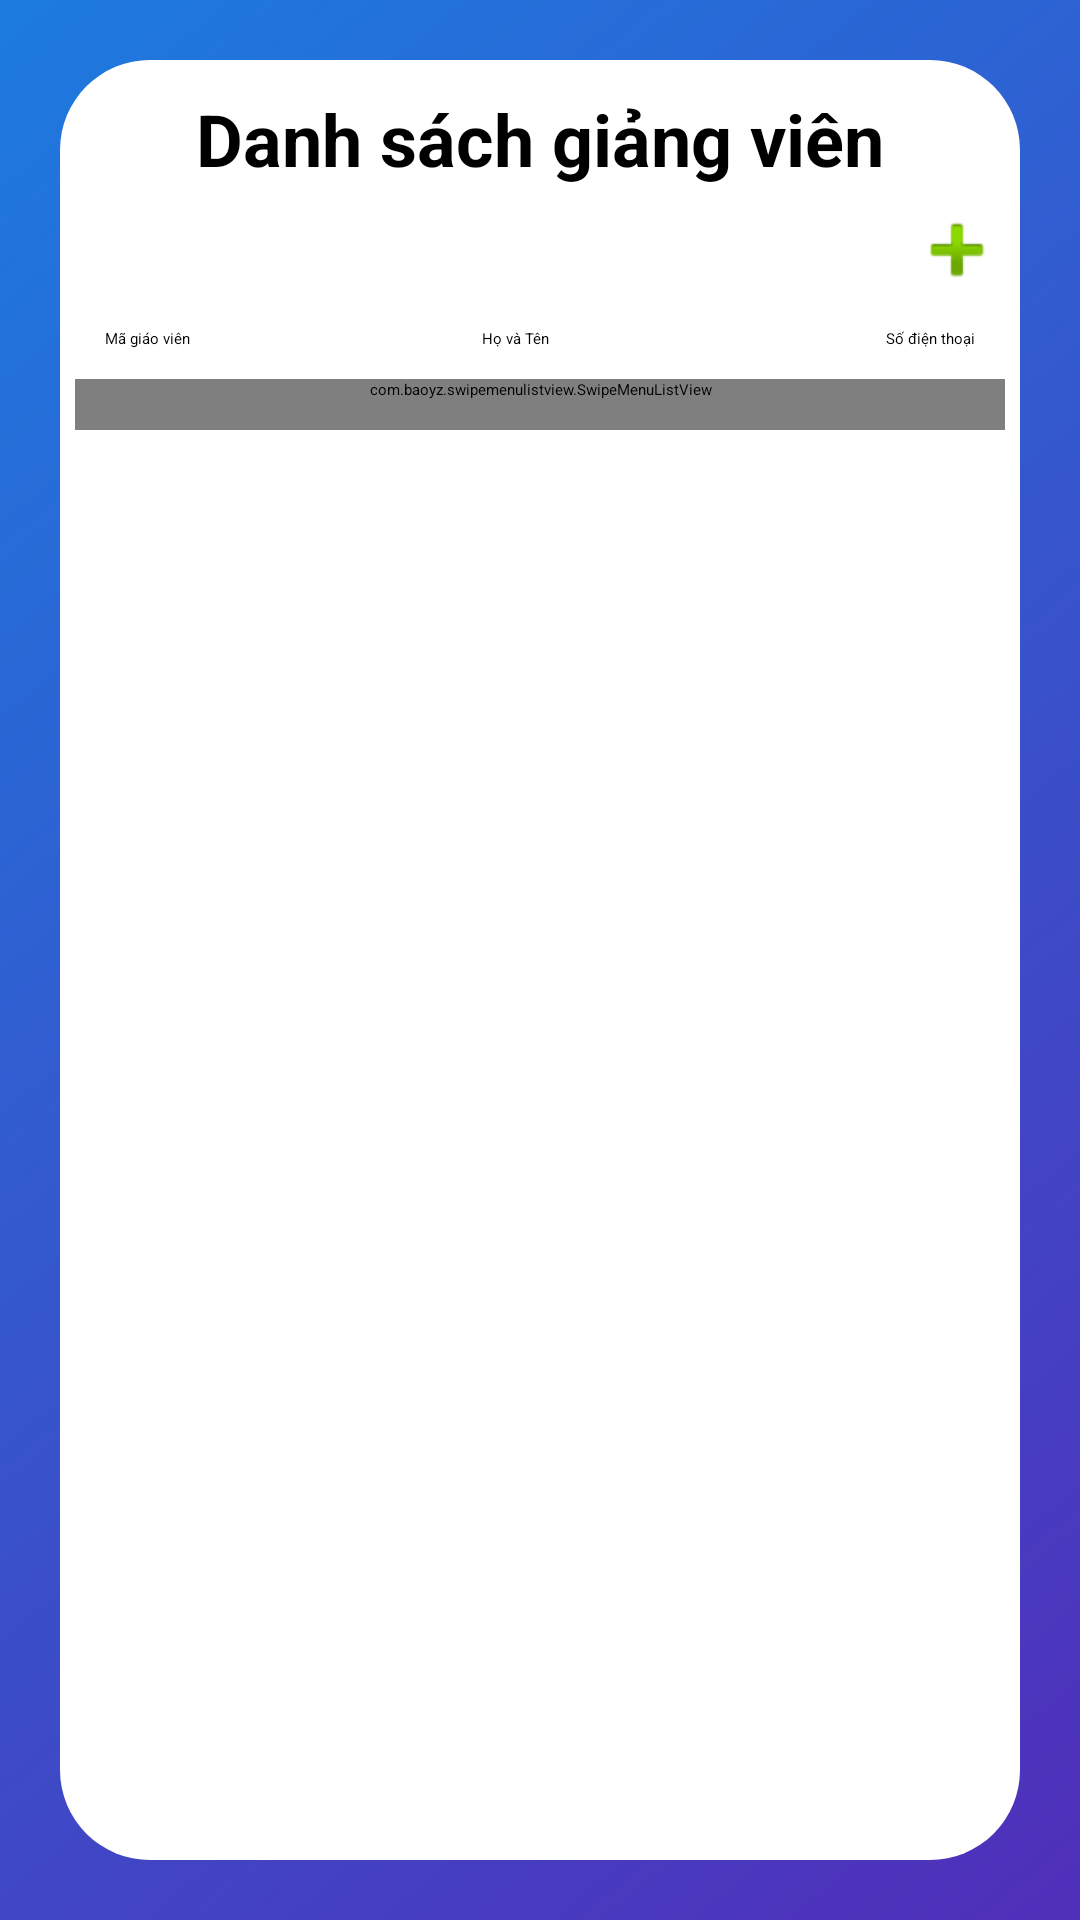

Named icons in this screenshot (1080px×1920px) and their bounding boxes, bbox=(x1, y1, x2, y2):
add: bbox=(930, 223, 984, 277)
